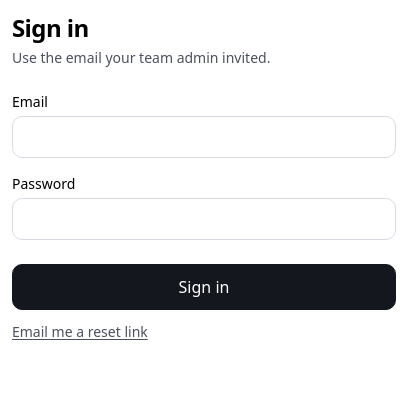
it: password reset › a malformed address asks for a valid one
In the field labelled "Email": (204, 137) [12,116,396,158], type "reader@example.com"
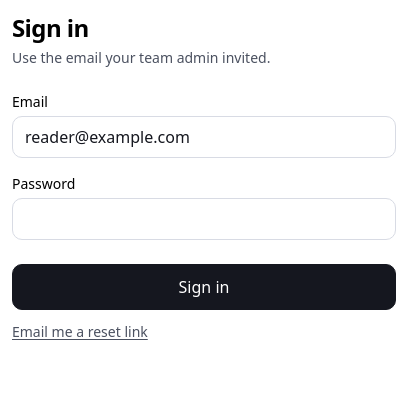
Click the button "Email me a reset link": (80, 332) [12,322,148,342]
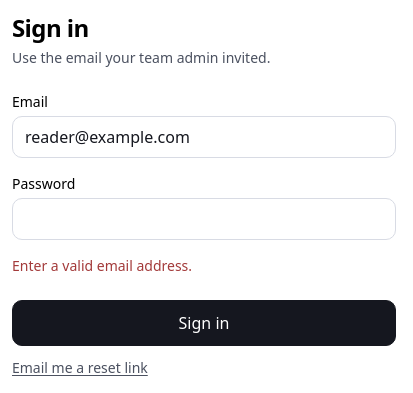
Expected: the message reads "Enter a valid email address.", [12,256,192,275]
